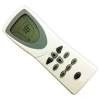remote control: (0, 0, 97, 100)
